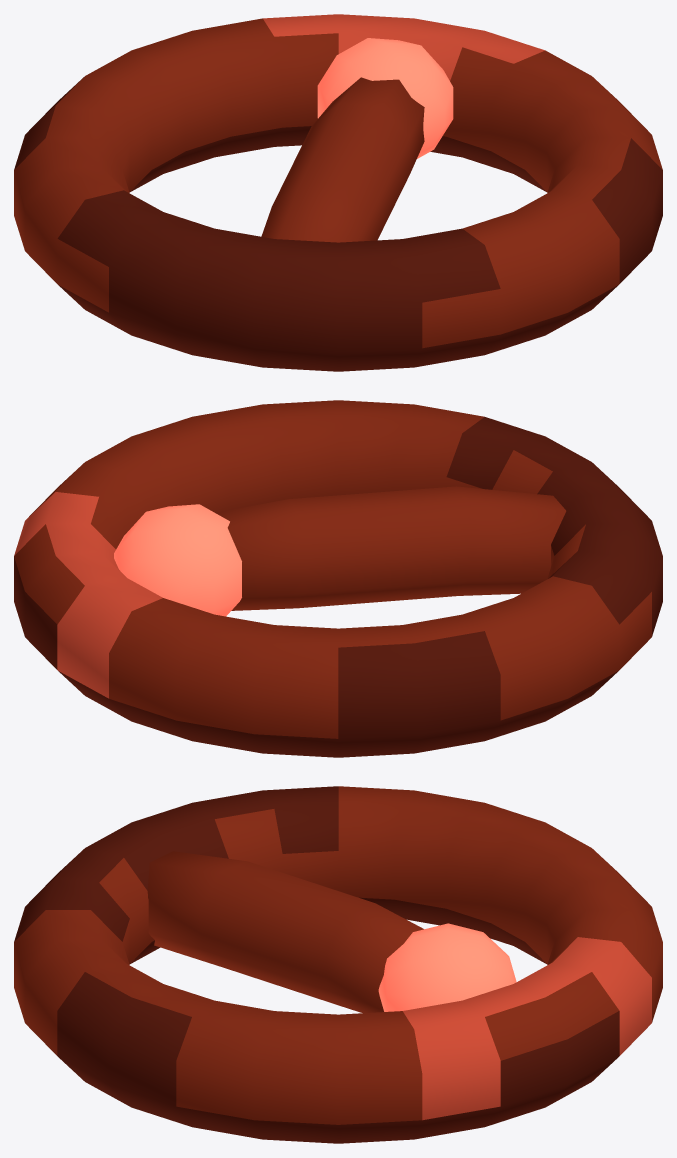
The model's file is newshv-190.glb.
The picture shows the model from 3 angles, top to bottom: view 1: azimuth 30°, elevation 25°; view 2: azimuth 150°, elevation 25°; view 3: azimuth 270°, elevation 25°; orthographic projection.
Parts seen in each view (by area): view 1: newshv-190; view 2: newshv-190; view 3: newshv-190.
Boxes of the visible parts, left/top/right/bottom form: newshv-190: left=14, top=14, right=662, bottom=371; newshv-190: left=14, top=400, right=662, bottom=757; newshv-190: left=14, top=786, right=662, bottom=1143.
Bounding box in the file's own units: 0.6905 × 0.1647 × 0.6905.
